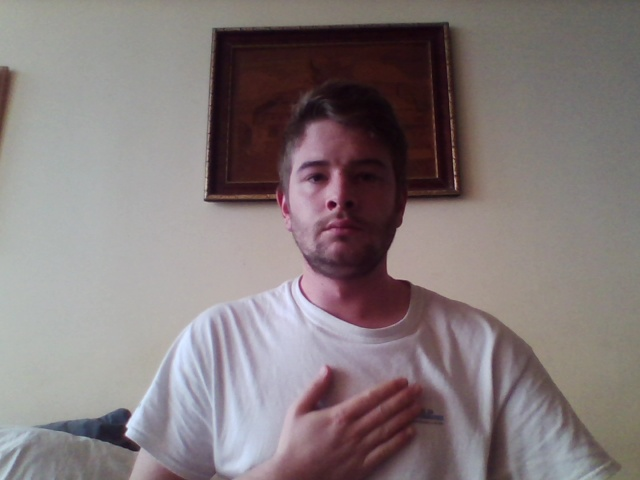molimte: (278, 362, 425, 480)
